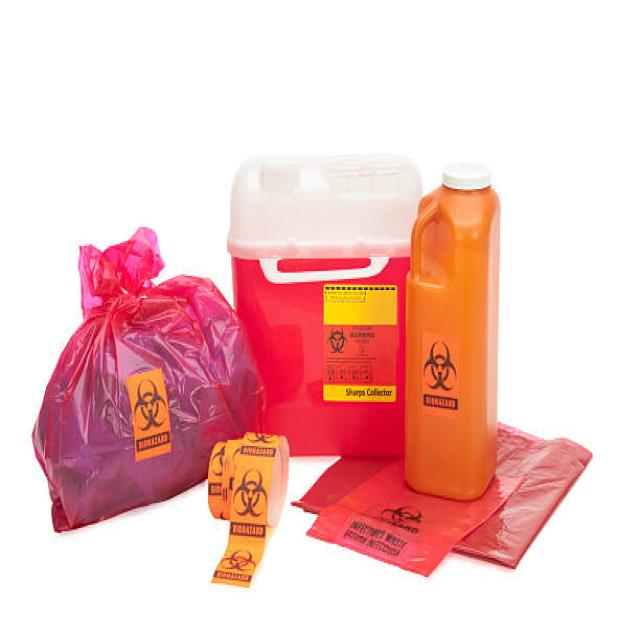plastic: (254, 146, 404, 406), (401, 151, 496, 517)
trash: (26, 255, 251, 500)
